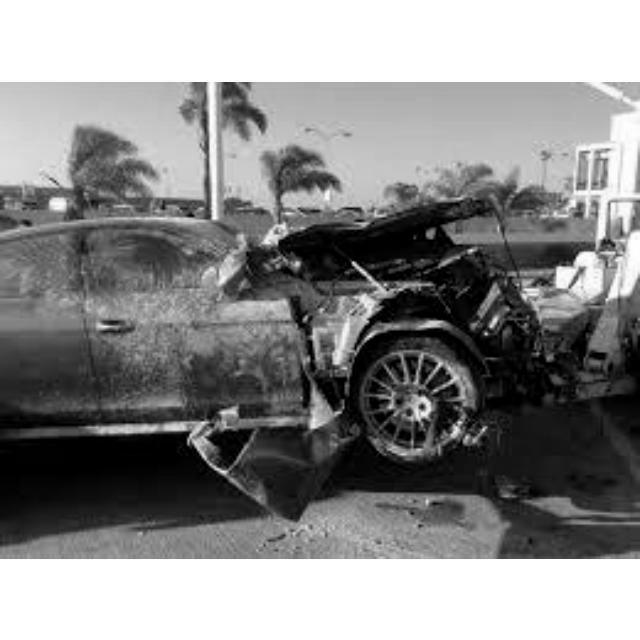bonnet-dent: (291, 188, 505, 249)
fender-dent: (318, 286, 443, 354)
